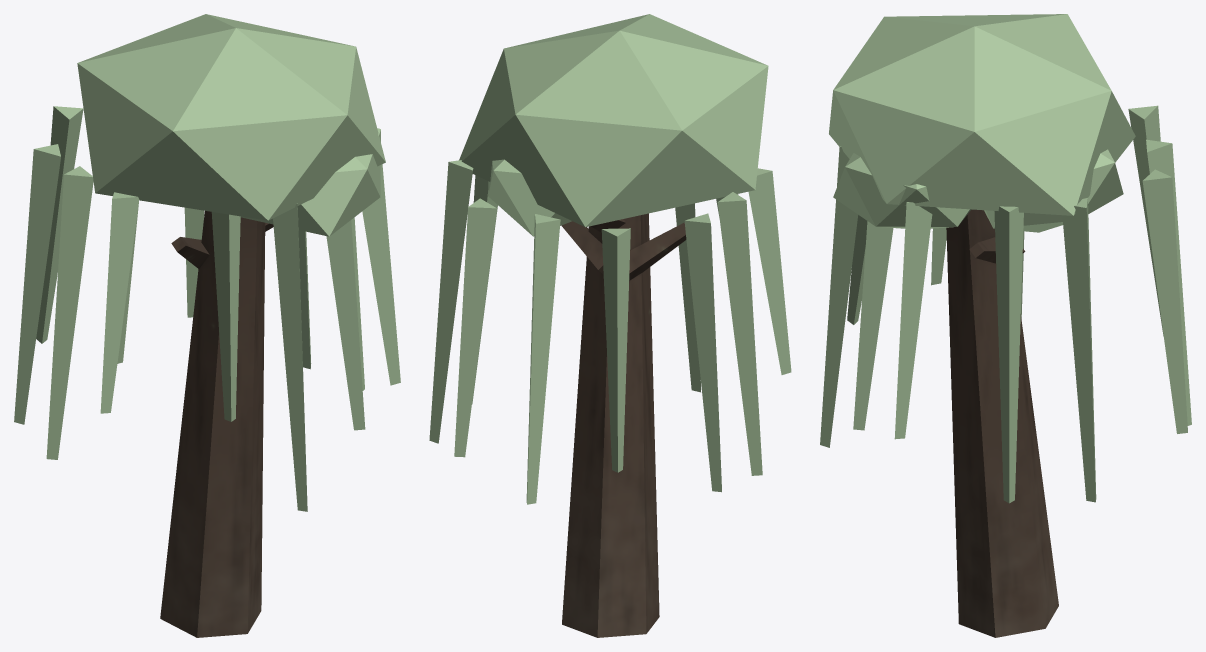
Rendered from arv_salgueiro_6.glb.
3 views of the same model, side by side, from view 1: azimuth 30°, elevation 25°; view 2: azimuth 150°, elevation 25°; view 3: azimuth 270°, elevation 25° (orthographic). The views are drawn at different scales.
Parts seen in each view (by area): view 1: arv_salgueiro_6; view 2: arv_salgueiro_6; view 3: arv_salgueiro_6.
Part boxes in pixels (left/top/right/bottom): arv_salgueiro_6: left=14, top=14, right=400, bottom=637; arv_salgueiro_6: left=429, top=14, right=791, bottom=637; arv_salgueiro_6: left=820, top=14, right=1191, bottom=637.
Bounding box in the file's own units: 0.8334 × 1.52 × 0.8582.
Materials: 2 (1 with a texture image).
